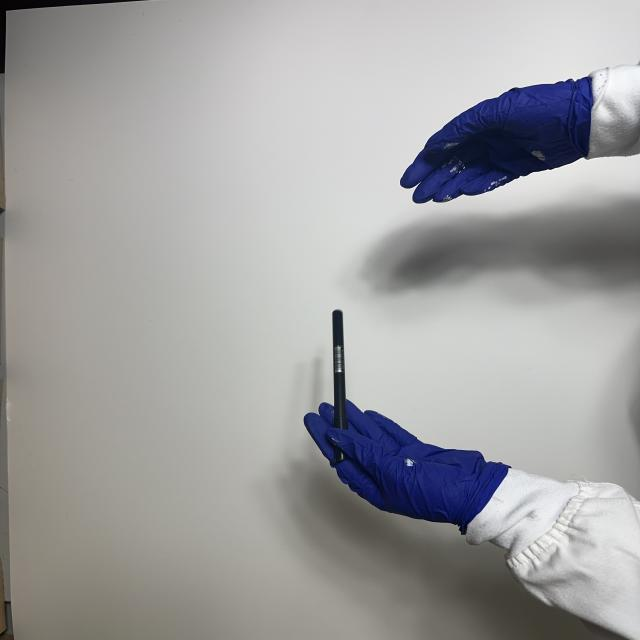gloves_contaminated: (304, 401, 508, 532), (401, 78, 595, 202)
